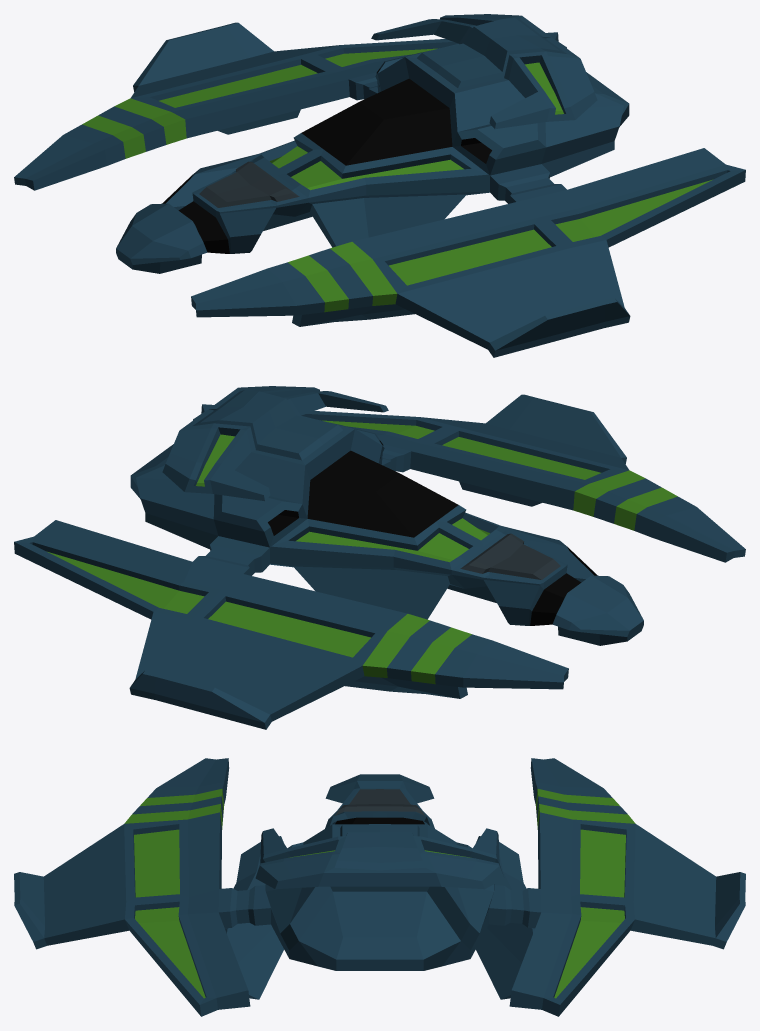
The model's file is Phoenix.fbx.
3 renders of one model, top to bottom at view 1: azimuth 30°, elevation 25°; view 2: azimuth 150°, elevation 25°; view 3: azimuth 270°, elevation 25°, orthographic. The views are drawn at different scales.
Parts seen in each view (by area): view 1: Phoenix; view 2: Phoenix; view 3: Phoenix.
Part boxes in pixels (x1,y1,x2,y2): Phoenix: (14,14,745,357); Phoenix: (14,386,745,729); Phoenix: (14,758,745,1016).
Size of the model in its own units: 1509 by 428 by 1248.
